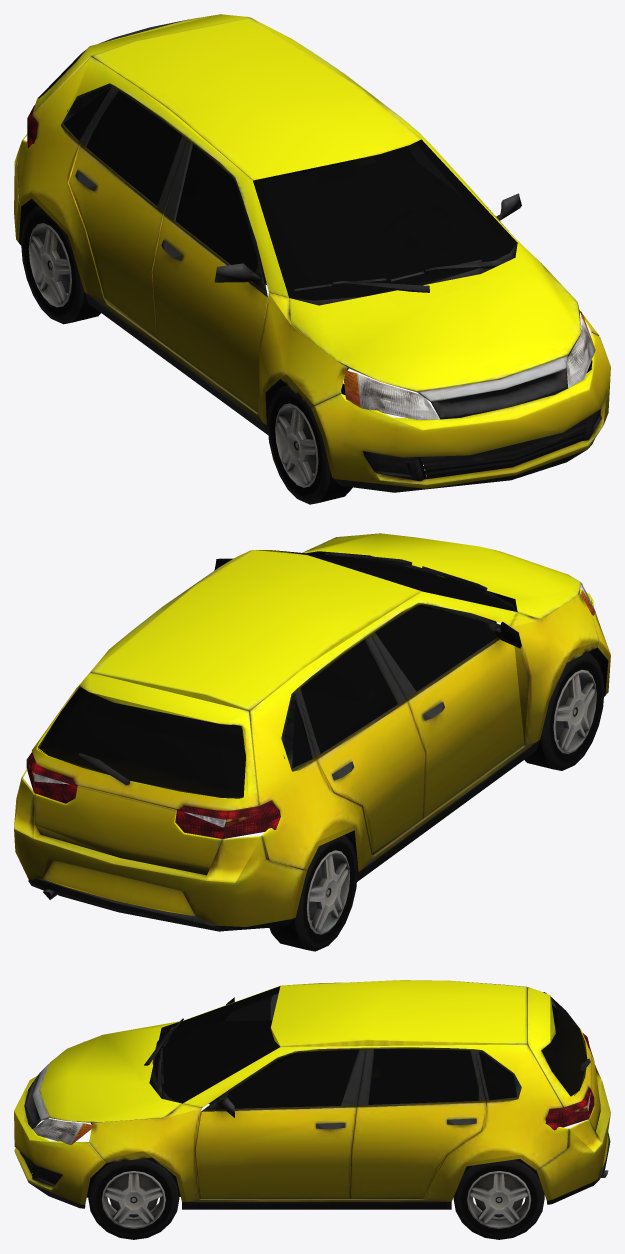
Rendered from hatchback_lo.glb.
The picture shows the model from 3 angles, top to bottom: view 1: azimuth 30°, elevation 25°; view 2: azimuth 150°, elevation 25°; view 3: azimuth 270°, elevation 25°; orthographic projection. The views are drawn at different scales.
Visible parts, largest first — view 1: body, wheel_fr, wheel_rr; view 2: body, wheel_rr, wheel_fr; view 3: body, wheel_fl, wheel_rl.
Boxes of the visible parts, box(x1,y1,x2,y2) form: body: box(14, 14, 610, 492); wheel_fr: box(267, 385, 352, 504); wheel_rr: box(21, 205, 100, 324); body: box(14, 533, 610, 931); wheel_rr: box(269, 835, 357, 951); wheel_fr: box(524, 652, 604, 770); body: box(14, 980, 610, 1209); wheel_fl: box(88, 1157, 179, 1239); wheel_rl: box(453, 1159, 544, 1239).
Bounding box in the file's own units: 1.79 × 1.4 × 4.07.
Materials: 4 (3 with a texture image).
